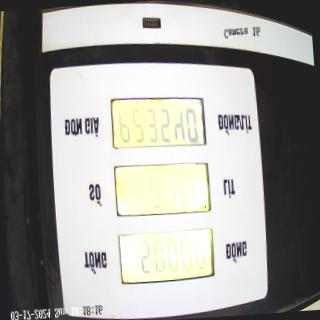screen: (106, 88, 218, 291)
